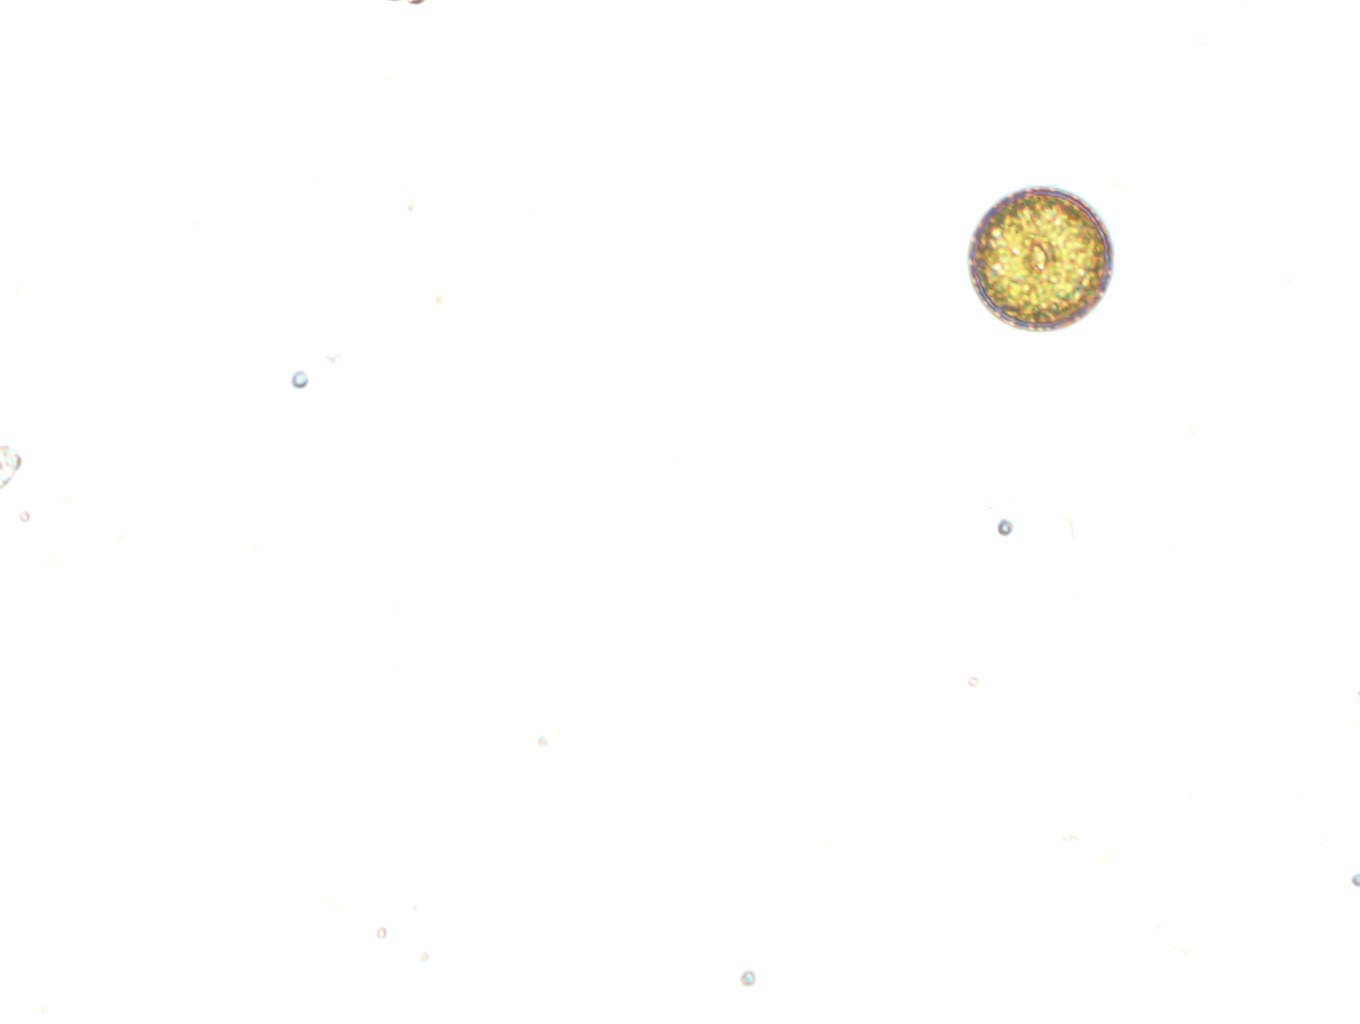coscinodiscus: (965, 184, 1118, 336)
